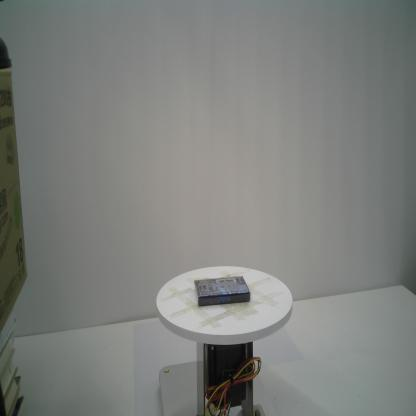Gum: (195, 276, 250, 307)
